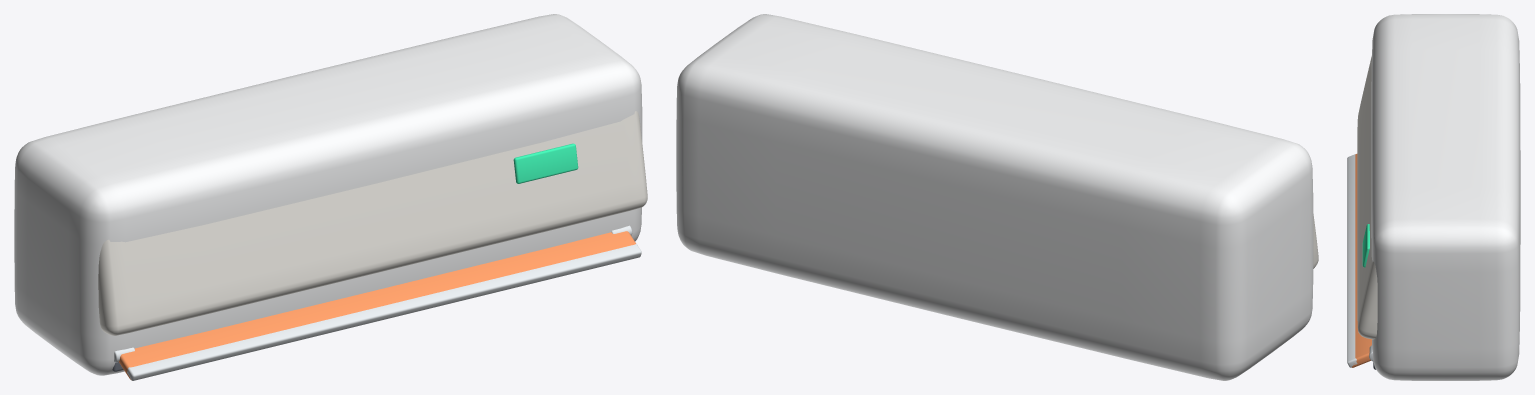
File: SM_AirConditioner.fbx
3 views of the same model, side by side, from view 1: azimuth 30°, elevation 25°; view 2: azimuth 150°, elevation 25°; view 3: azimuth 270°, elevation 25° (orthographic). The views are drawn at different scales.
Parts seen in each view (by area): view 1: AirConditionerBody, VentFlap_Pivot, StatusLED_Pivot; view 2: AirConditionerBody; view 3: AirConditionerBody, VentFlap_Pivot, StatusLED_Pivot.
Boxes of the visible parts, x1,y1,x2,y2 form: AirConditionerBody: (14,14,647,375); VentFlap_Pivot: (114,225,641,380); StatusLED_Pivot: (513,143,578,183); AirConditionerBody: (676,14,1318,380); AirConditionerBody: (1357,14,1520,380); VentFlap_Pivot: (1347,154,1373,367); StatusLED_Pivot: (1362,224,1369,267).
Size of the model in its own units: 85.97 by 27.97 by 27.75.
